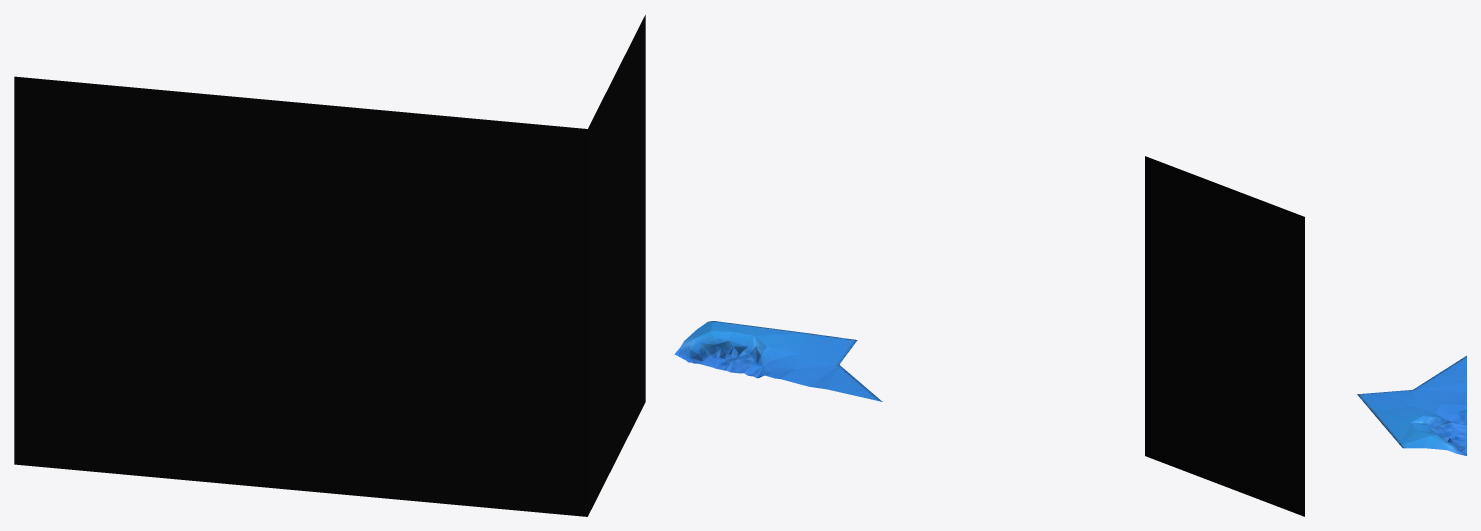
3 views of the same model, side by side, from view 1: azimuth 30°, elevation 25°; view 2: azimuth 150°, elevation 25°; view 3: azimuth 270°, elevation 25° (orthographic). The views are drawn at different scales.
Bounding box in the file's own units: 13.06 × 9 × 8.75.
2 materials, 2 textured.
